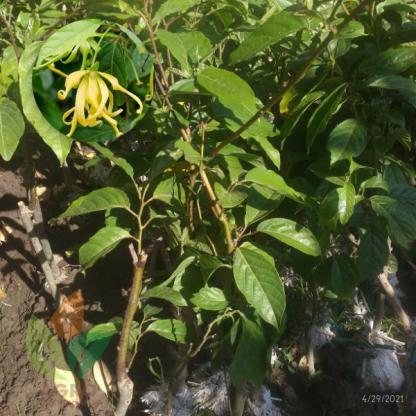Kenanga: (61, 62, 134, 136)
